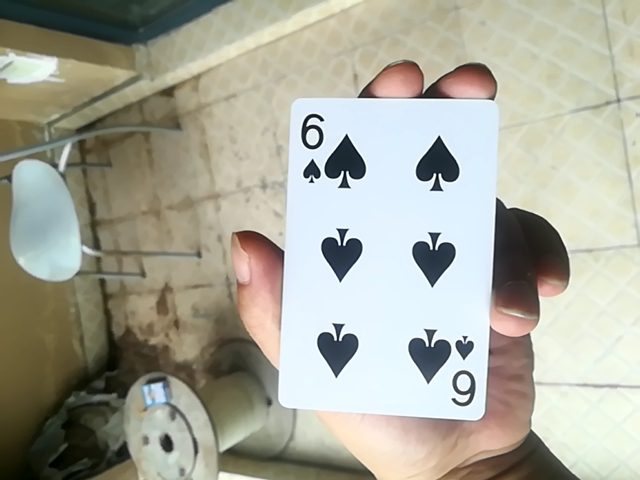ht 6: (278, 94, 507, 434)
